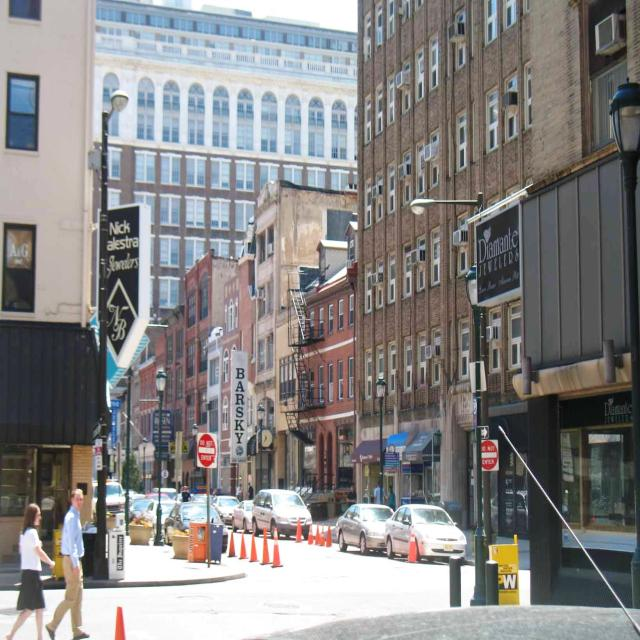Street Light: (409, 192, 490, 528), (96, 91, 127, 578), (465, 263, 499, 610), (155, 372, 170, 549), (376, 375, 388, 517)
